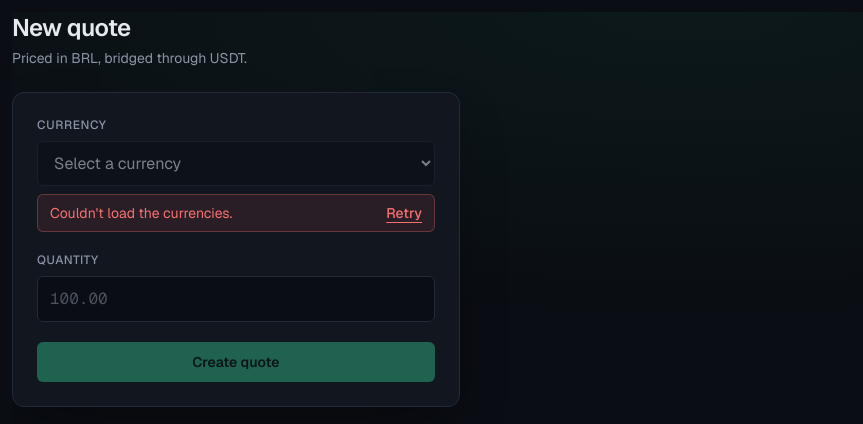
QuotationPage currencies › shows a retryable message when listCurrencies fails, then loads on retry
Expected: the message shows "Couldn't load the currencies", [50,204,232,222]
Expected: the dropdown labelled "Currency" is disabled, [37,141,435,186]
Click the button "Retry": coordinates (404, 213) [386,203,422,223]
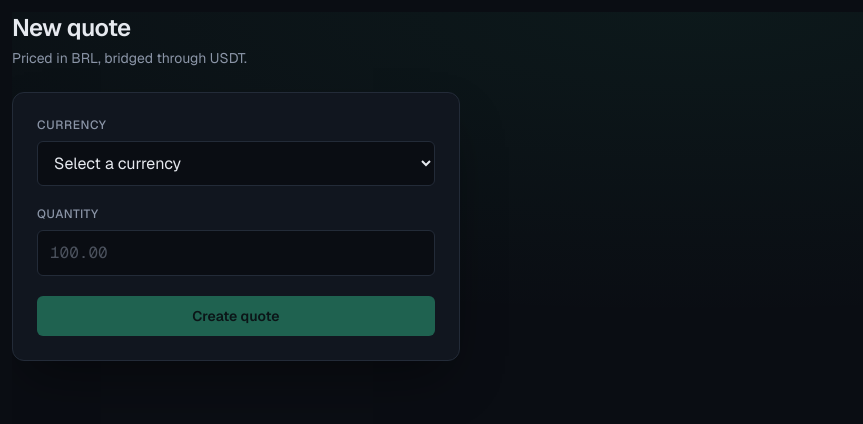
Expected: the message "Couldn't load the currencies. Retry" is gone
Expected: the dropdown labelled "Currency" is enabled, [37,141,435,186]
